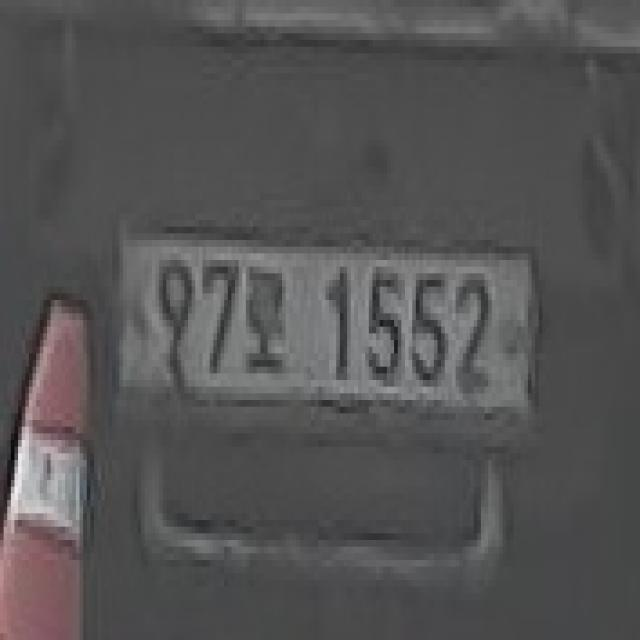1: (320, 261, 360, 387)
2: (457, 260, 497, 400)
5: (411, 259, 452, 391), (367, 259, 404, 386)
7: (200, 255, 240, 378)
9: (154, 254, 196, 376)
license_plate: (119, 231, 535, 426)
lo: (244, 255, 299, 383)
